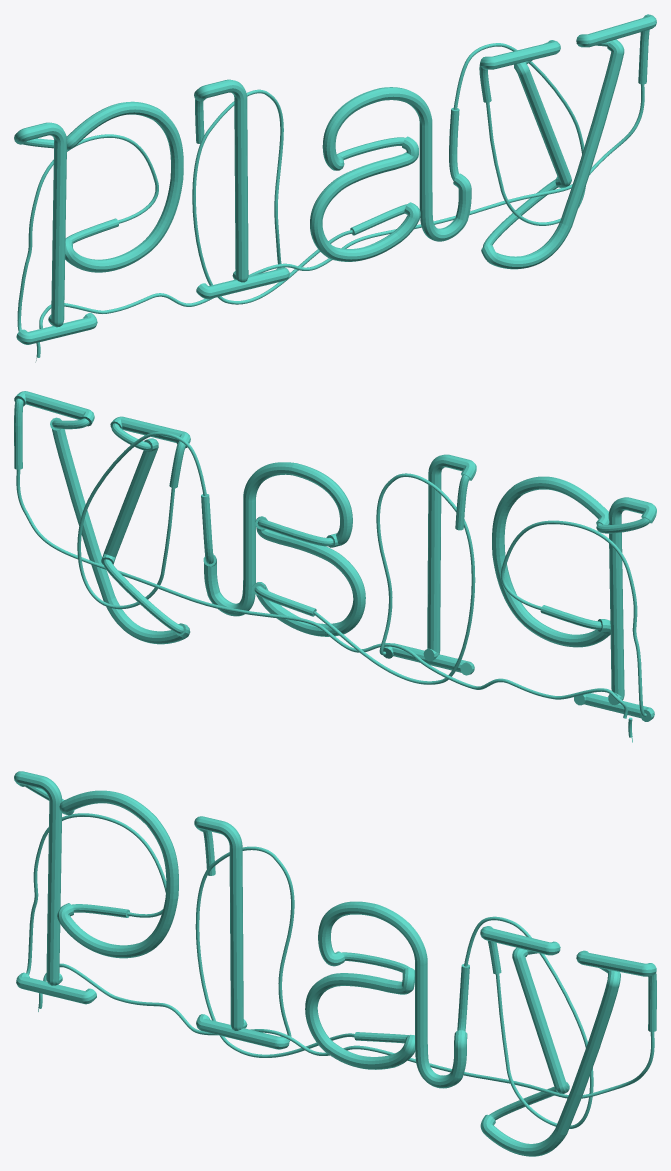
File: Play sign.fbx
3 views of the same model, one above another, from view 1: azimuth 30°, elevation 25°; view 2: azimuth 150°, elevation 25°; view 3: azimuth 330°, elevation 25° (orthographic).
Parts seen in each view (by area): view 1: A, P, Y, Cables, L; view 2: Y, A, P, Cables, L; view 3: A, P, Y, Cables, L.
Boxes of the visible parts, x1=… form: A: x1=310, y1=87, x2=471, y2=261; P: x1=14, y1=101, x2=183, y2=344; Y: x1=479, y1=14, x2=656, y2=269; Cables: x1=17, y1=43, x2=644, y2=362; L: x1=194, y1=79, x2=289, y2=299; Y: x1=14, y1=391, x2=190, y2=644; A: x1=201, y1=462, x2=365, y2=636; P: x1=492, y1=476, x2=656, y2=721; Cables: x1=16, y1=432, x2=646, y2=742; L: x1=383, y1=454, x2=476, y2=675; A: x1=305, y1=901, x2=469, y2=1088; P: x1=14, y1=771, x2=178, y2=1004; Y: x1=480, y1=926, x2=656, y2=1156; Cables: x1=26, y1=813, x2=654, y2=1128; L: x1=194, y1=816, x2=289, y2=1049.
Bounding box in the file's own units: 102 × 40.04 × 3.8.
